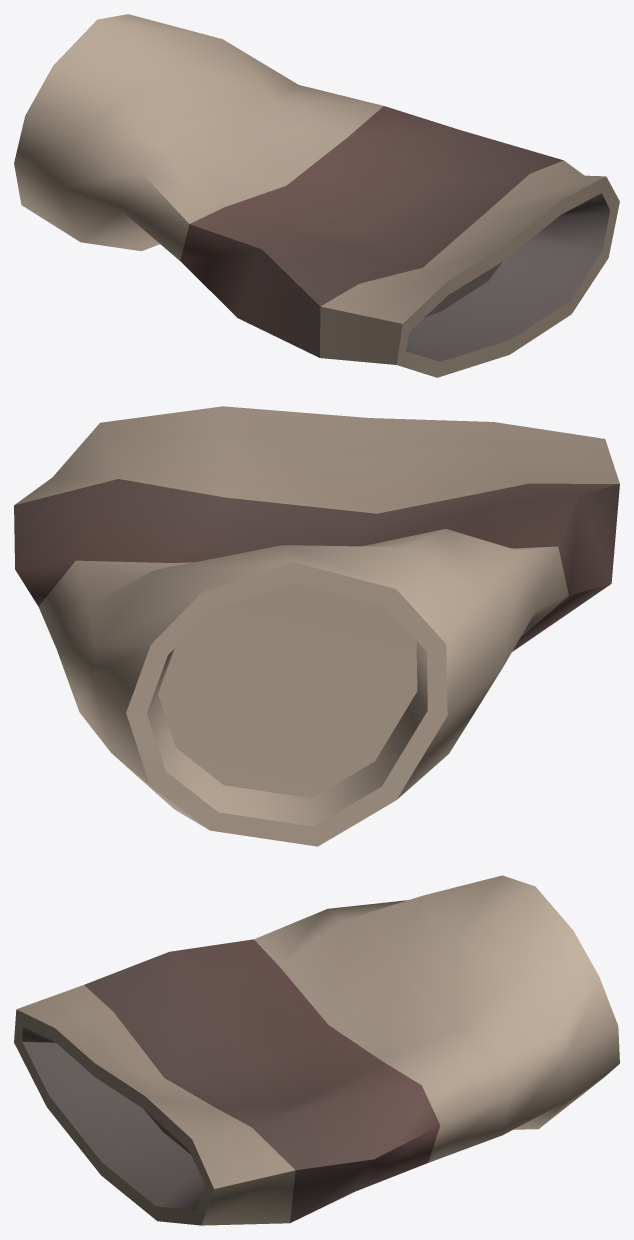
Rendered from Trash_003.fbx.
3 renders of one model, top to bottom at view 1: azimuth 30°, elevation 25°; view 2: azimuth 150°, elevation 25°; view 3: azimuth 270°, elevation 25°, orthographic. The views are drawn at different scales.
Visible parts, largest first — view 1: Trash_003; view 2: Trash_003; view 3: Trash_003.
Part boxes in pixels (left/top/right/bottom): Trash_003: left=14, top=14, right=619, bottom=377; Trash_003: left=14, top=406, right=619, bottom=846; Trash_003: left=14, top=875, right=619, bottom=1225.
Size of the model in its own units: 14.16 by 17.15 by 6.45.
